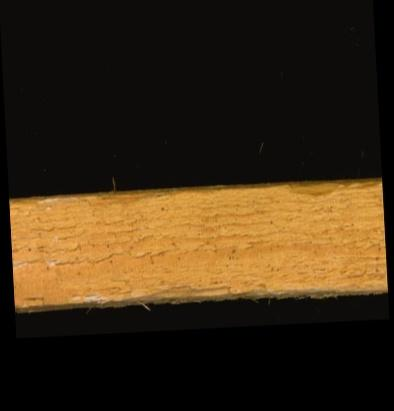wave: (106, 286, 286, 306), (54, 188, 224, 201), (280, 178, 381, 194)
